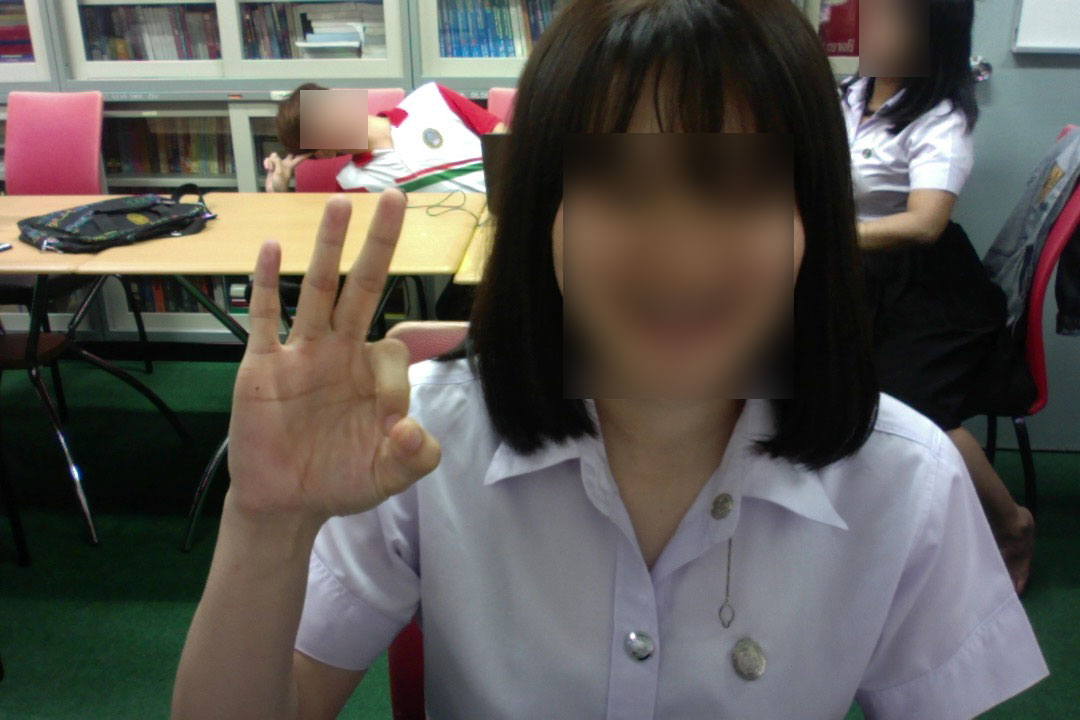for: (214, 186, 453, 527)
